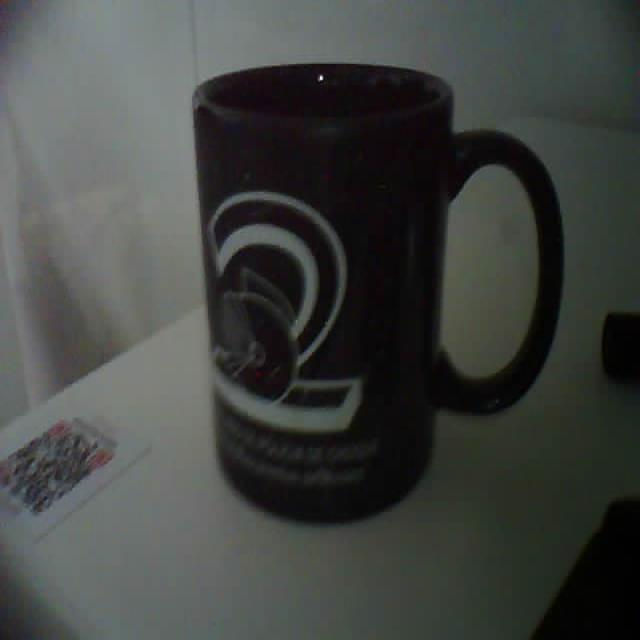caneca: (193, 64, 562, 520)
